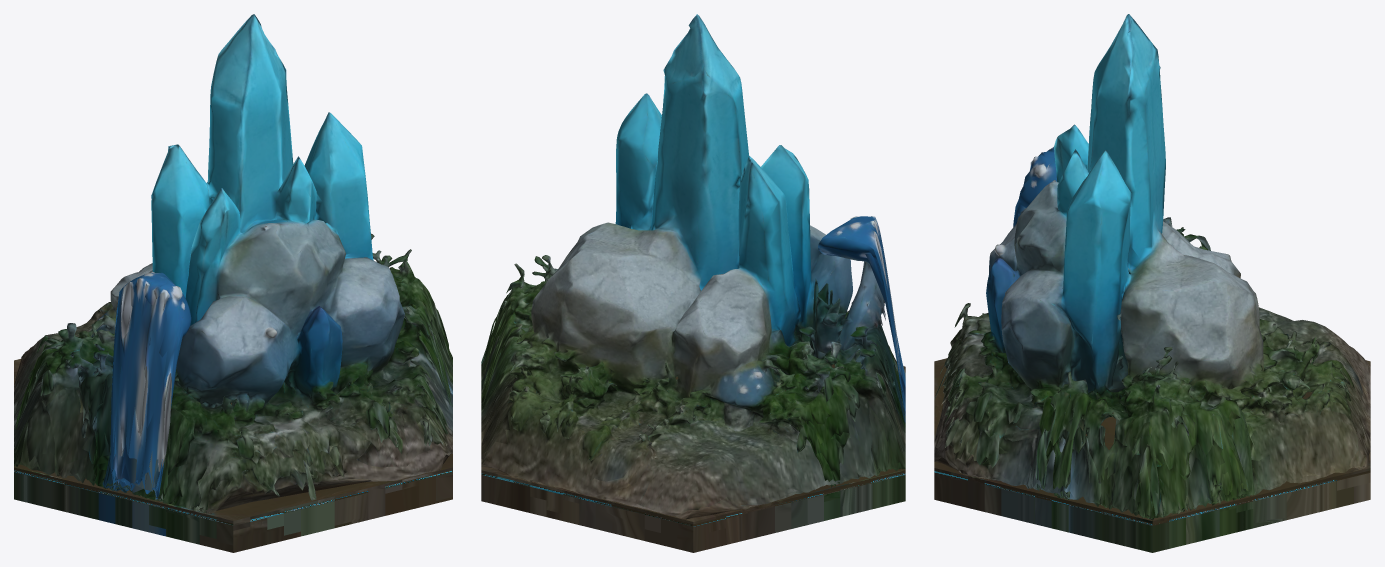
Rendered from hex_mystical_grove.glb.
3 renders of one model, left to right at view 1: azimuth 30°, elevation 25°; view 2: azimuth 150°, elevation 25°; view 3: azimuth 270°, elevation 25°, orthographic. The views are drawn at different scales.
Parts seen in each view (by area): view 1: hex_mystical_grove_s7_fit; view 2: hex_mystical_grove_s7_fit; view 3: hex_mystical_grove_s7_fit.
Boxes of the visible parts, bbox=[...] form: hex_mystical_grove_s7_fit: bbox=[14, 14, 452, 552]; hex_mystical_grove_s7_fit: bbox=[481, 14, 905, 552]; hex_mystical_grove_s7_fit: bbox=[934, 14, 1370, 552].
Size of the model in its own units: 5.11 by 4.88 by 4.42.
1 material, 1 textured.
